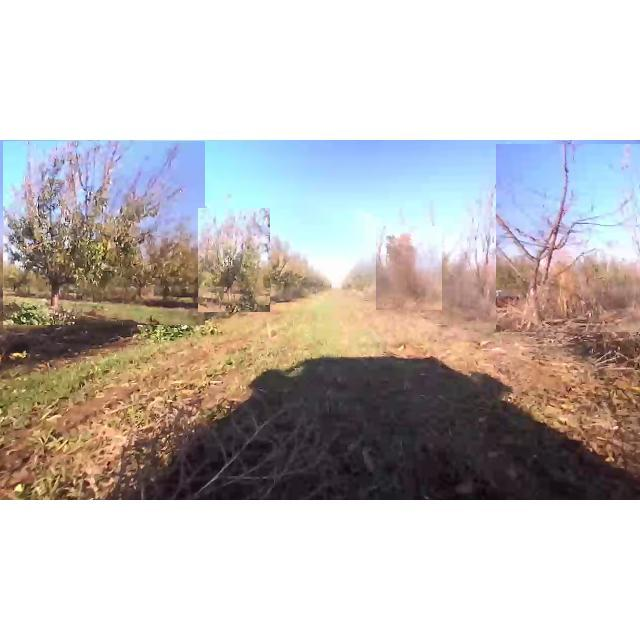direk: (3, 141, 205, 325), (496, 144, 640, 332), (458, 176, 520, 300), (198, 208, 270, 312), (376, 226, 442, 310)
